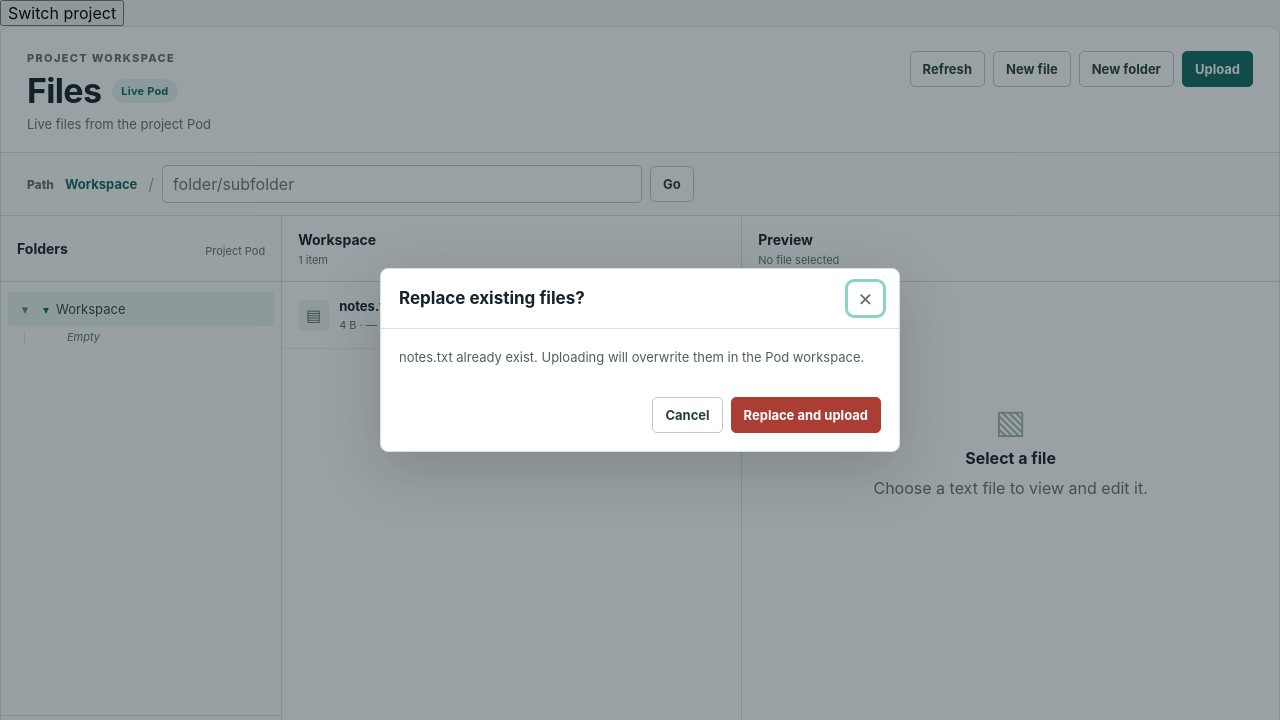
Project Pod files URL and recovery behavior › cancels an upload conflict without replacing the existing file
Earlier steps of the test are not shown.
Click the button "Cancel": (688, 415) [652,397,723,433]
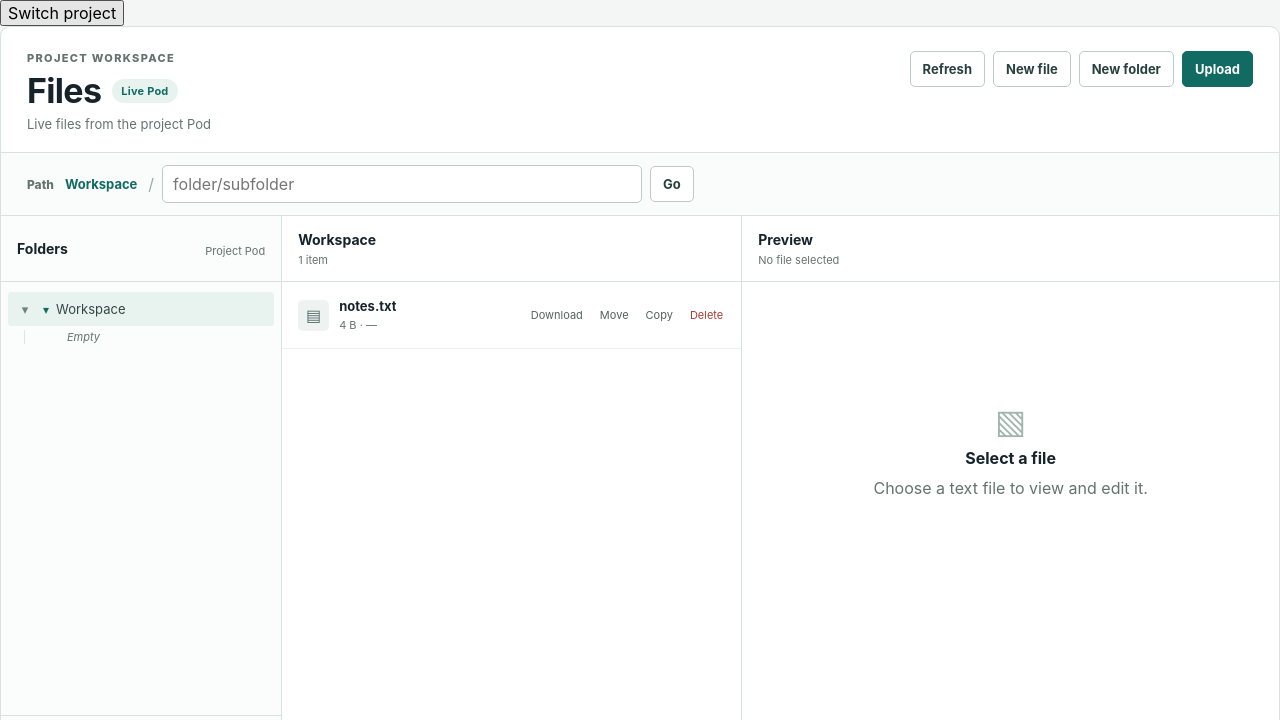
Check: the dialog with class "files-modal" is gone
